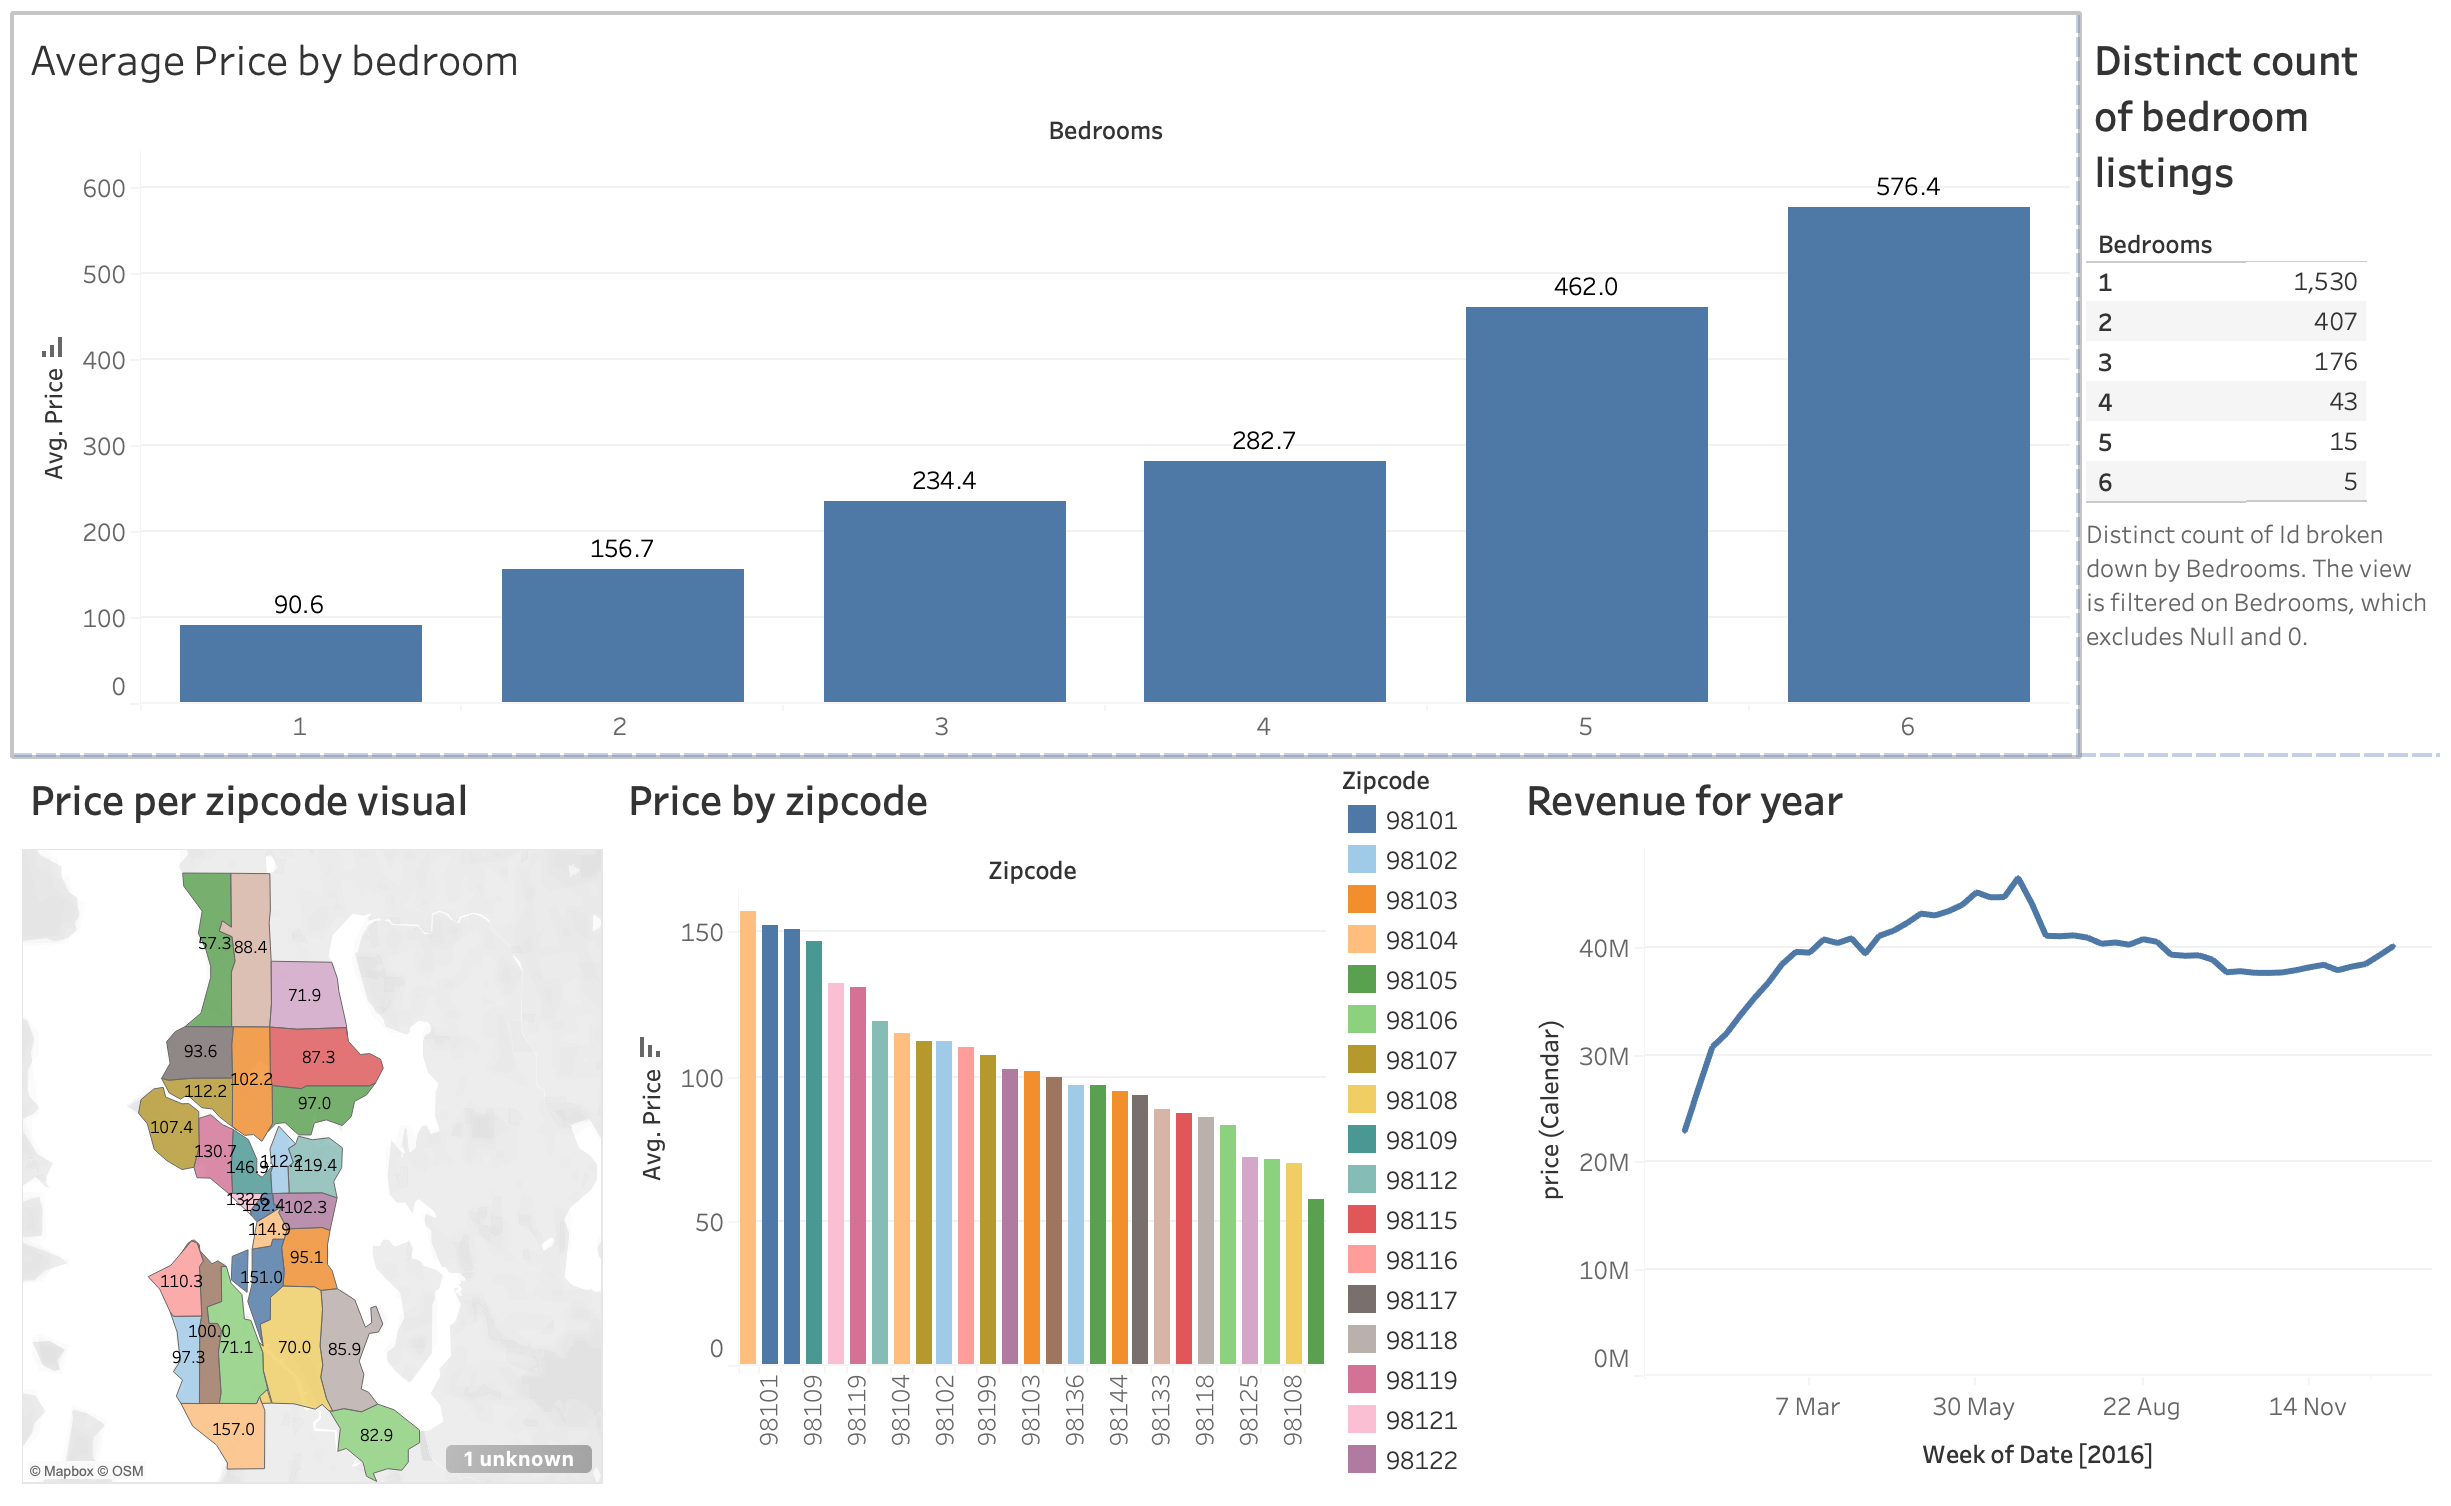

The page's visual inventory and layout, read from the dashboard file:
{"tool":"tableau","page":{"name":"Dashboard 1","canvas":[1000,1000],"units":"permille","ordinal":0},"visuals":[{"type":"worksheet","title":"Sheet 4","mark":"Automatic","rows":["price"],"cols":["bedrooms"],"box":[6.5,10.6,839.7,489.4]},{"type":"worksheet","title":"Sheet 5","mark":"Automatic","rows":["bedrooms"],"box":[846.2,10.6,147.3,489.4]},{"type":"worksheet","title":"Sheet 2","mark":"Multipolygon","box":[6.5,500,243.3,489.4]},{"type":"worksheet","title":"Sheet 1","mark":"Automatic","rows":["price"],"cols":["zipcode"],"box":[249.8,500,293.7,489.4]},{"type":"legend","title":"Sheet 1","param":"[federated.0no826m1m7uitj132iob608umrjn].[none:zipcode:ok]","box":[543.5,500,71.6,489.4]},{"type":"worksheet","title":"Sheet 3","mark":"Automatic","rows":["price (Calendar)"],"cols":["date"],"box":[615.1,500,378.4,489.4]}]}

Visuals, with their boxes on the dashboard's canvas, which has no fixed pixel size, in thousandths of its width and height (x1, y1, x2, y2). These are canvas units, not pixel positions in the 2451x1506 screenshot, which may show the page scaled, cropped or inside an application window:
"Sheet 4" worksheet: (x1=6, y1=11, x2=846, y2=500)
"Sheet 5" worksheet: (x1=846, y1=11, x2=994, y2=500)
"Sheet 2" worksheet (Multipolygon marks): (x1=6, y1=500, x2=250, y2=989)
"Sheet 1" worksheet: (x1=250, y1=500, x2=544, y2=989)
"Sheet 1" legend: (x1=544, y1=500, x2=615, y2=989)
"Sheet 3" worksheet: (x1=615, y1=500, x2=994, y2=989)
